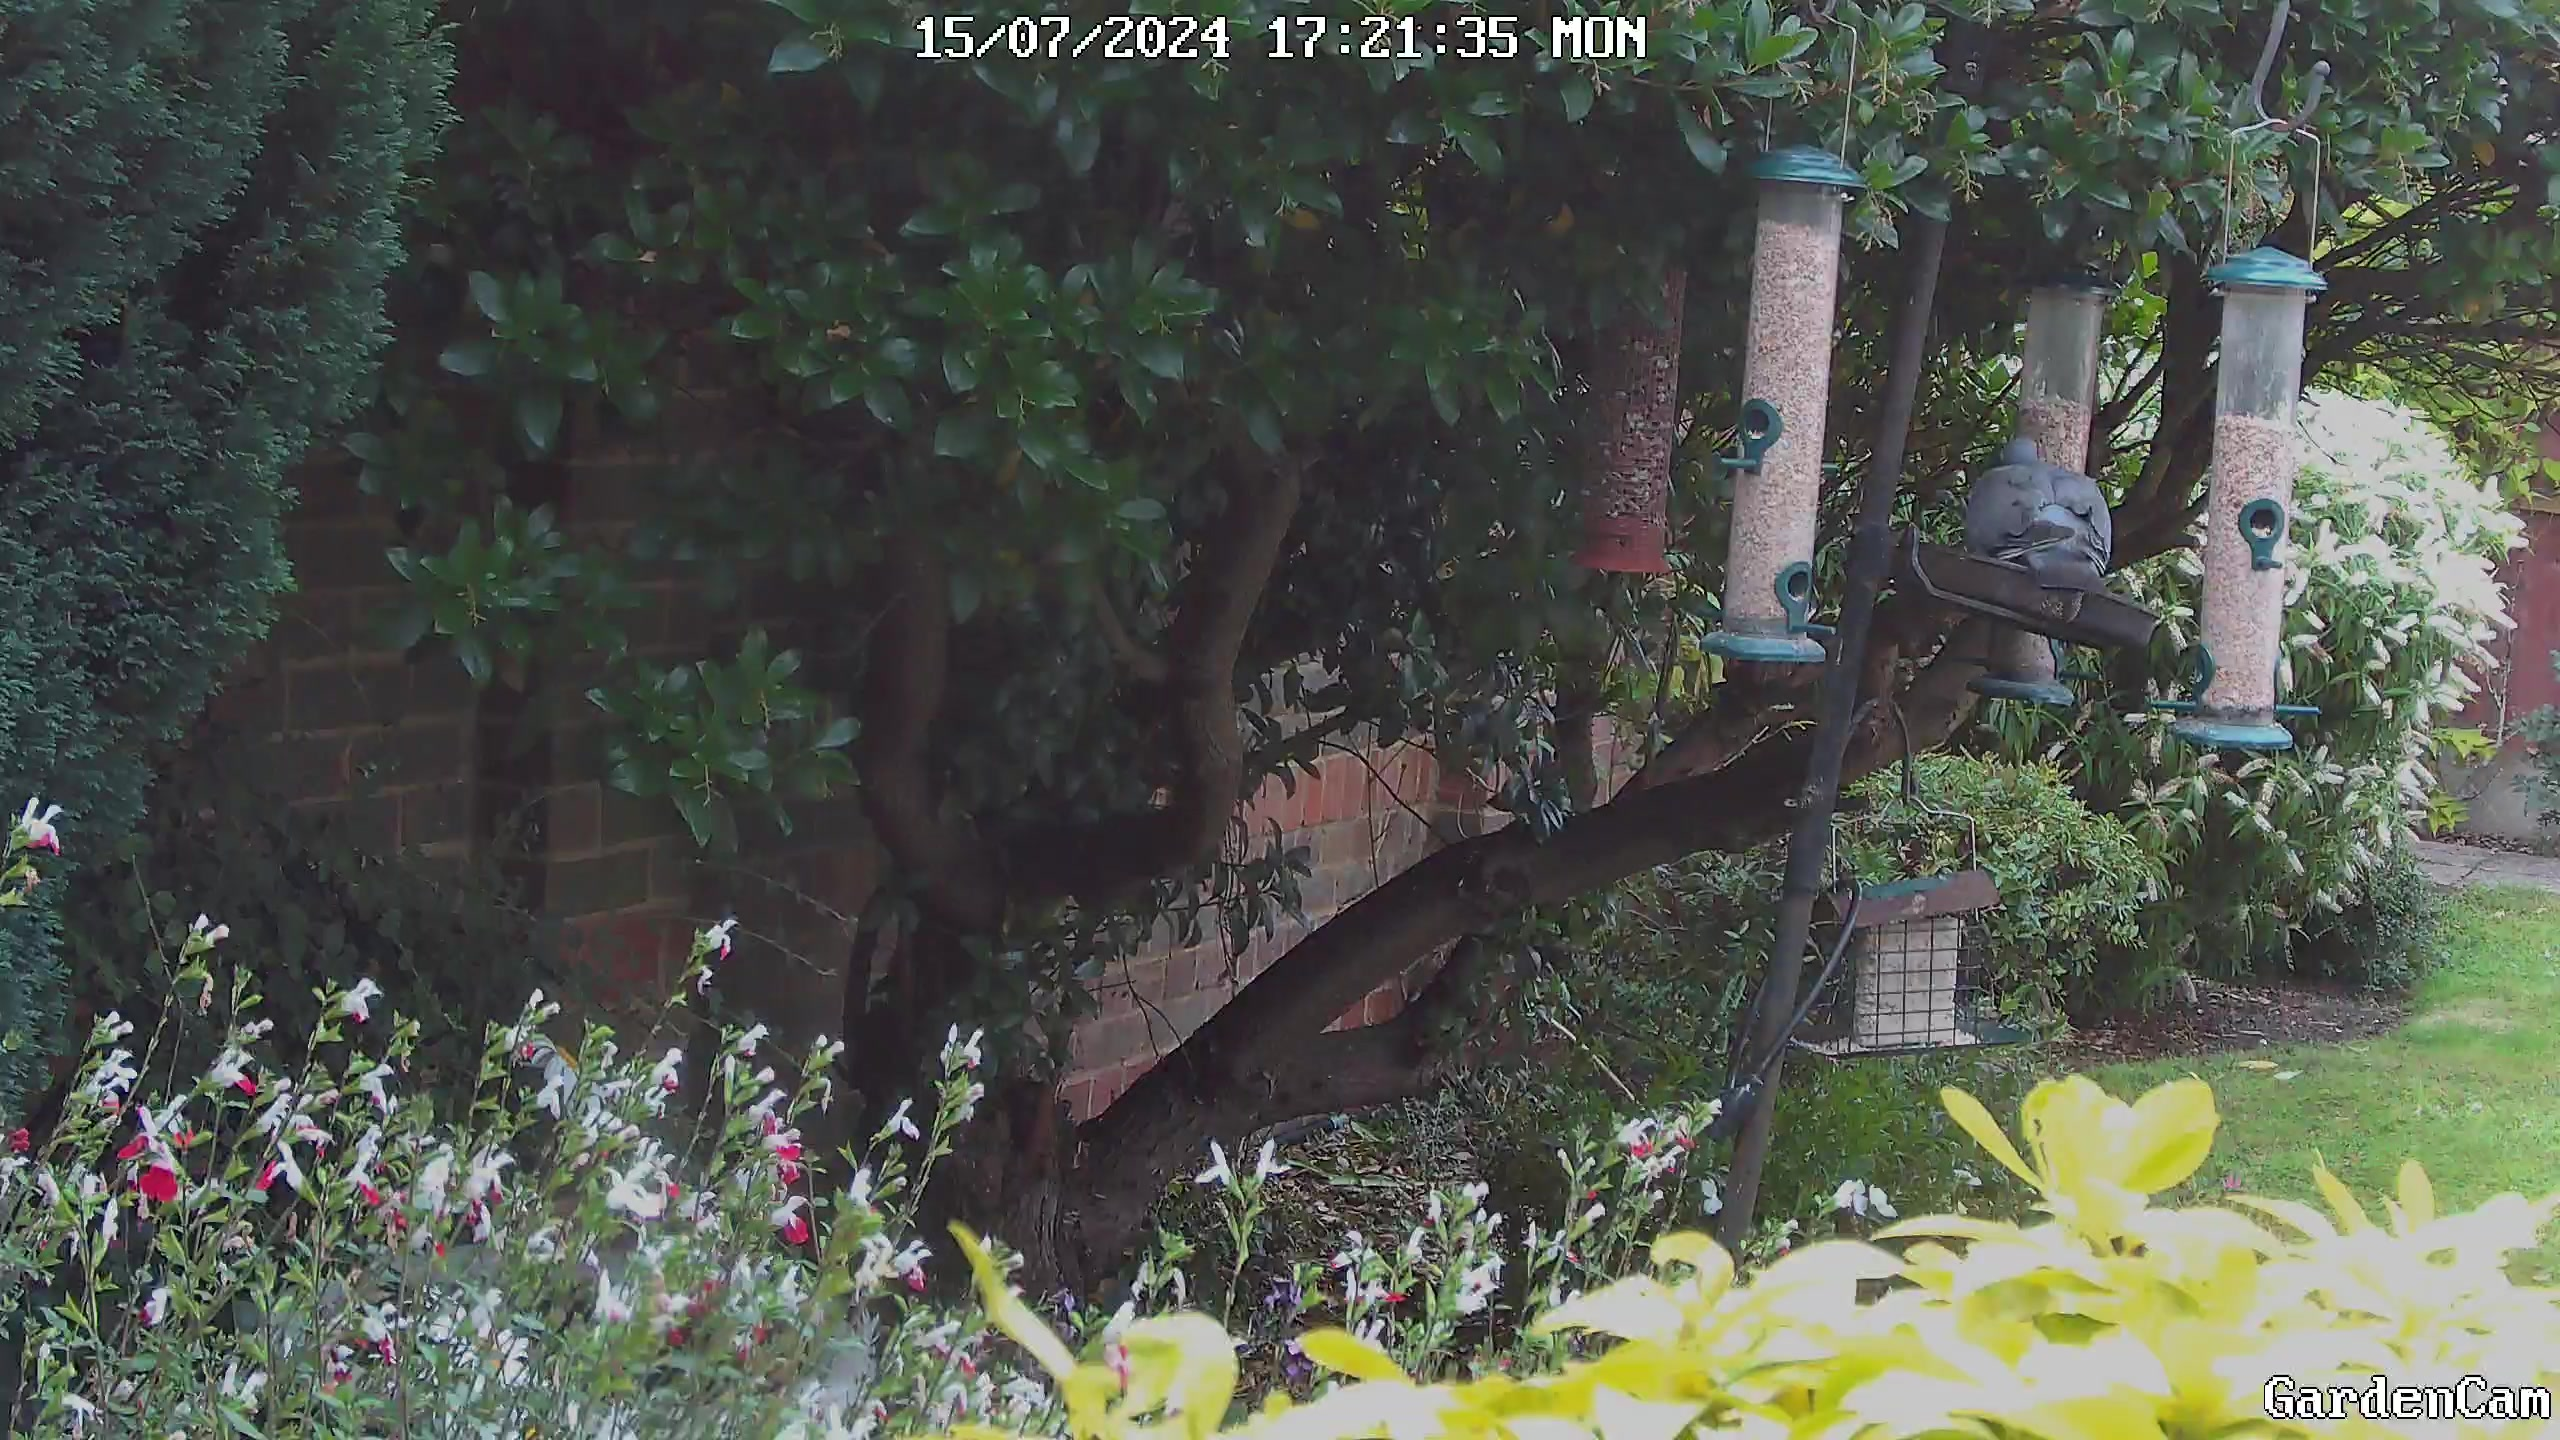Wood_Pigeon: (1936, 418, 2142, 621)
